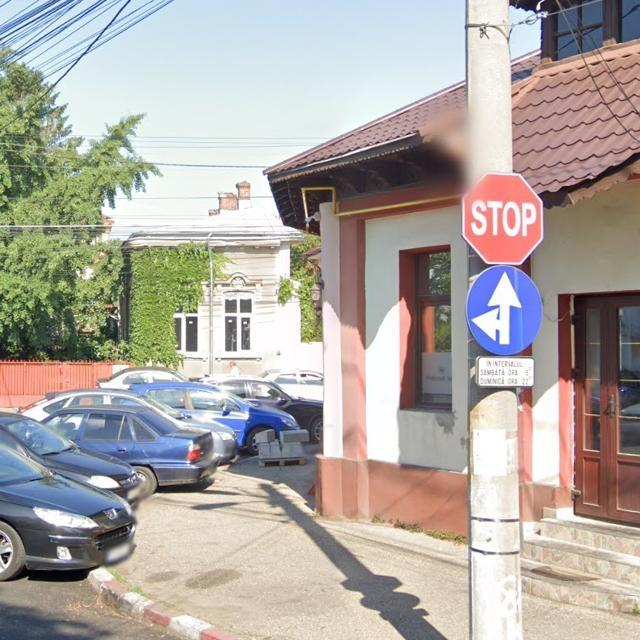prio_stop: (461, 171, 546, 265)
